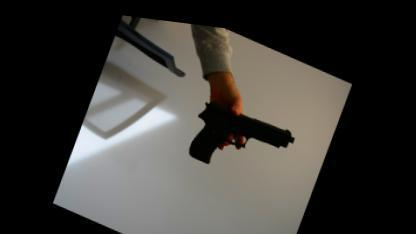pistol: (184, 86, 300, 188)
